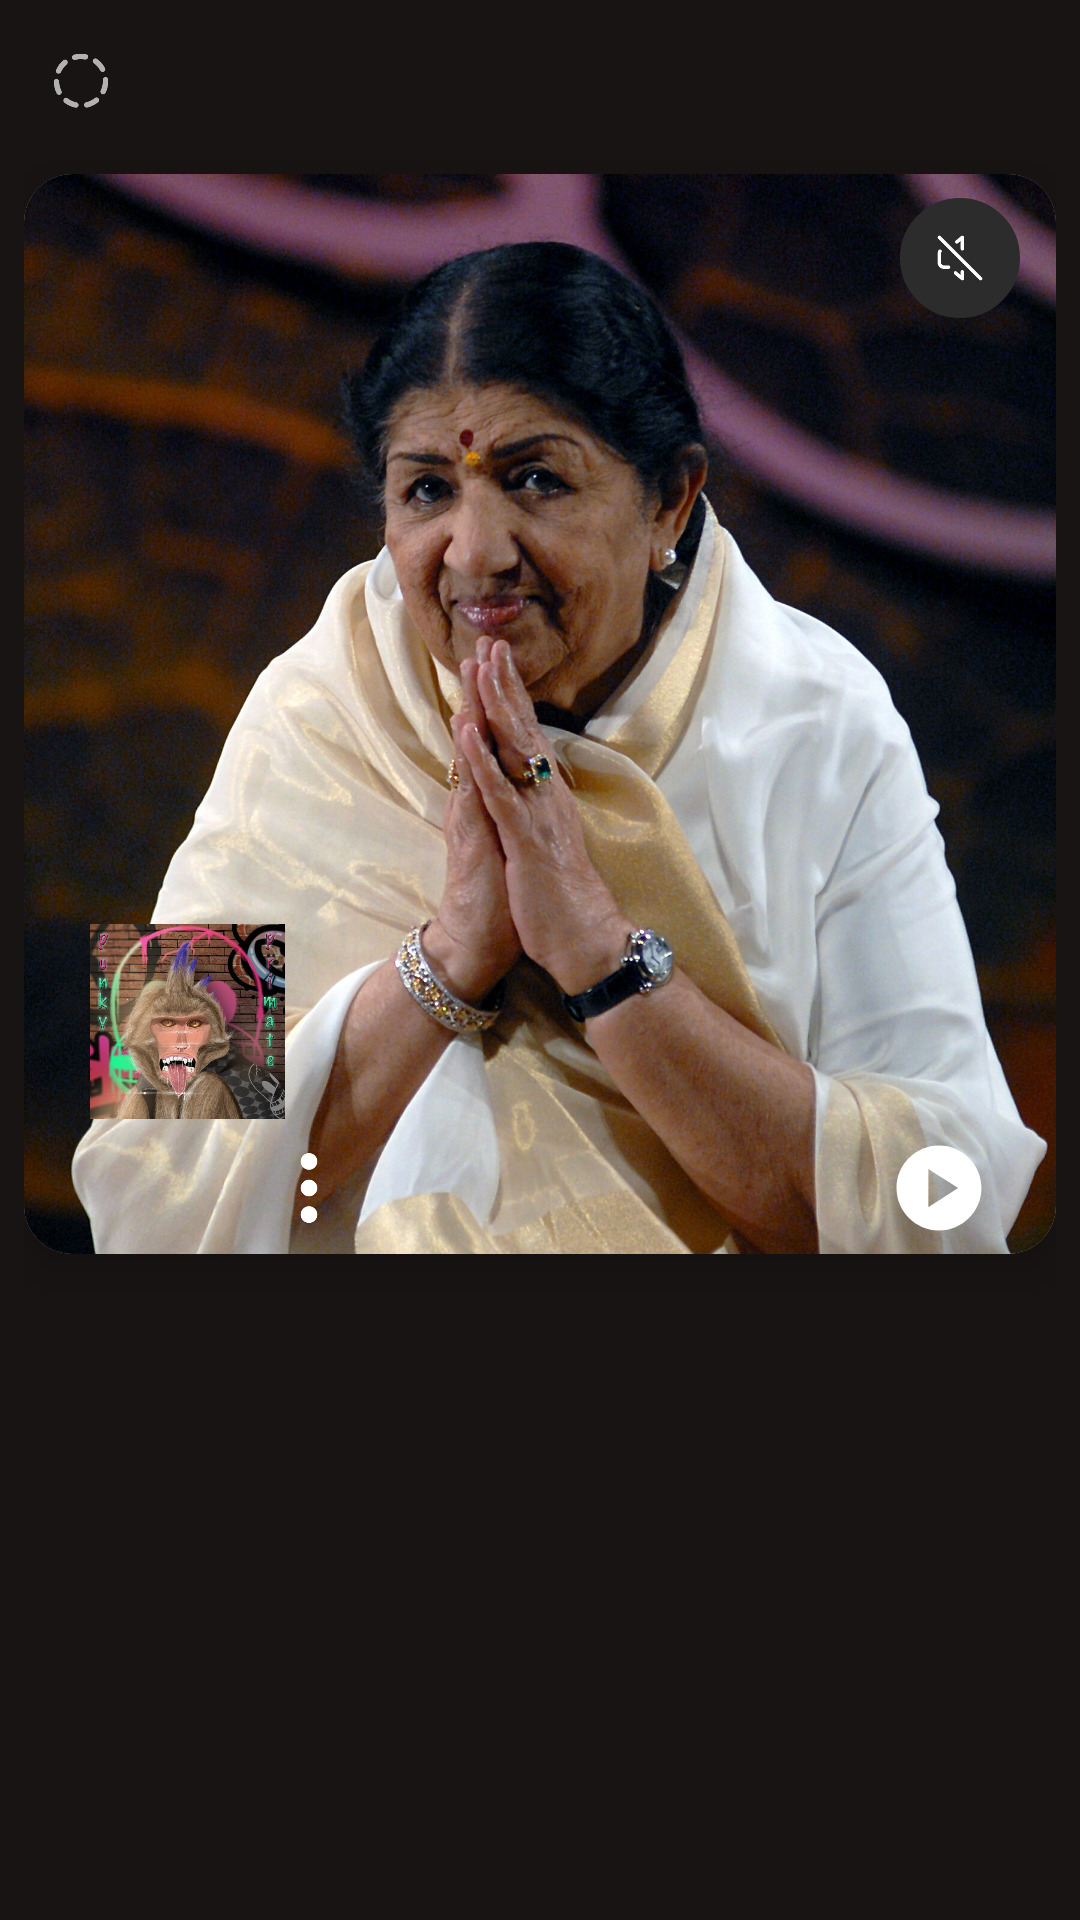

Icons on this 1080w x 1920h Android screen, each with the point to tap as (x=x, y=y):
circle: (x=81, y=81)
play online: (x=939, y=1188)
